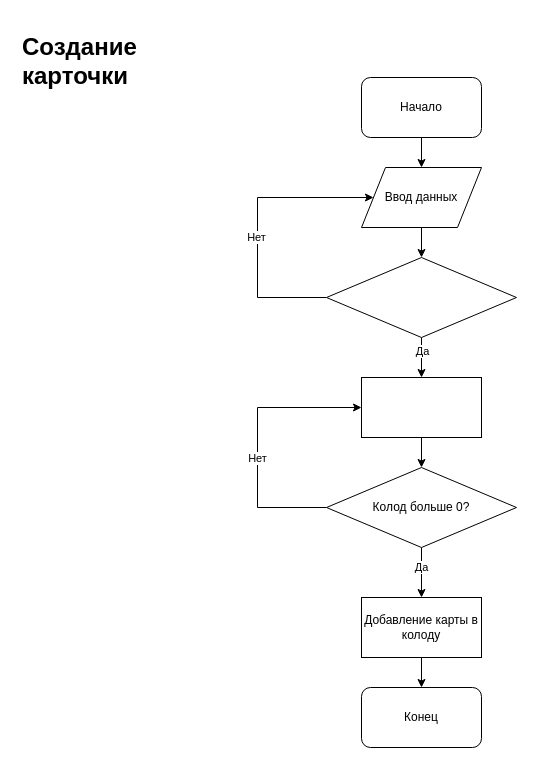
The diagram is 534 pixels wide and 765 high, and some of its shapes have lost their labels. The shapes that lost their labels are listed below. From the top down, each one's box as (x1, y1, x2, y2) in pixels, then its label:
(326, 256, 516, 338): Слово и перевод введены верно?
(360, 376, 482, 438): Выбор колод(ы)
